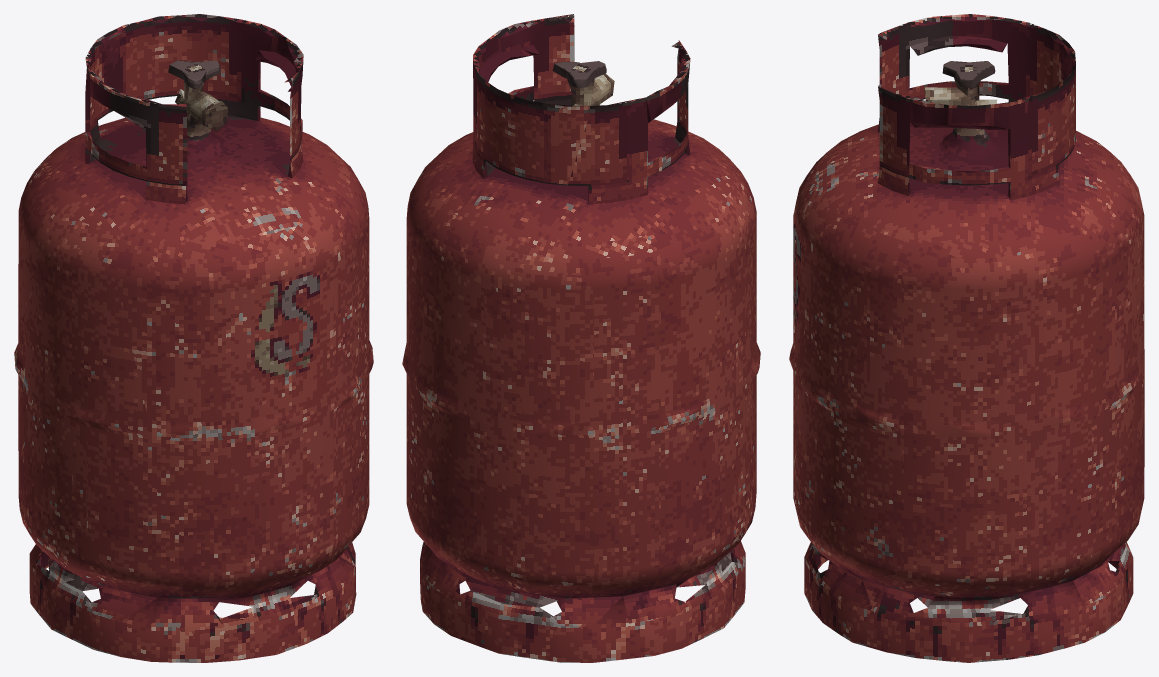
File: propane_tank.glb
The picture shows the model from 3 angles, left to right: view 1: azimuth 30°, elevation 25°; view 2: azimuth 150°, elevation 25°; view 3: azimuth 270°, elevation 25°; orthographic projection.
Visible parts, largest first — view 1: body; view 2: body; view 3: body.
Part boxes in pixels (<box>): body: <box>14,14,373,662</box>; body: <box>402,14,760,662</box>; body: <box>789,14,1144,662</box>.
Bounding box in the file's own units: 0.3339 × 0.5538 × 0.3337.
1 material, 1 textured.
